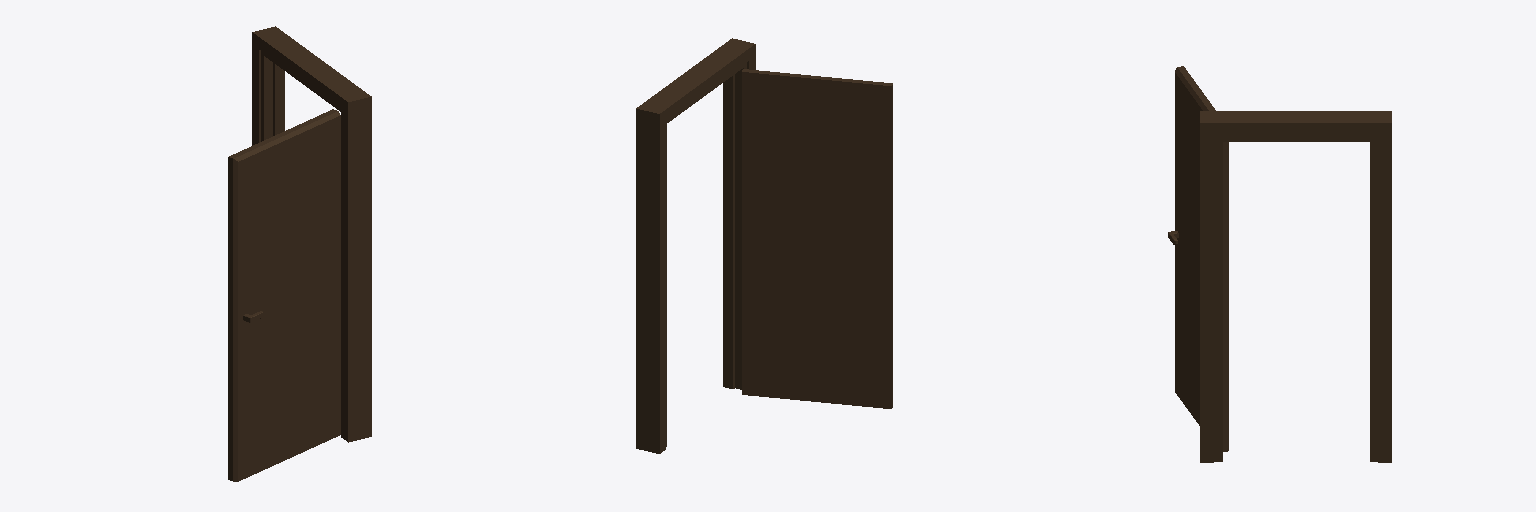
File: door.obj
3 views of the same model, side by side, from view 1: azimuth 30°, elevation 25°; view 2: azimuth 150°, elevation 25°; view 3: azimuth 270°, elevation 25° (orthographic).
Parts seen in each view (by area): view 1: Door.001_Plane.011; view 2: Door.001_Plane.011; view 3: Door.001_Plane.011.
Part boxes in pixels (x1,y1,x2,y2): Door.001_Plane.011: (228,26,371,481); Door.001_Plane.011: (636,38,892,453); Door.001_Plane.011: (1168,66,1391,462).
Size of the model in its own units: 10.02 by 21.5 by 12.85.